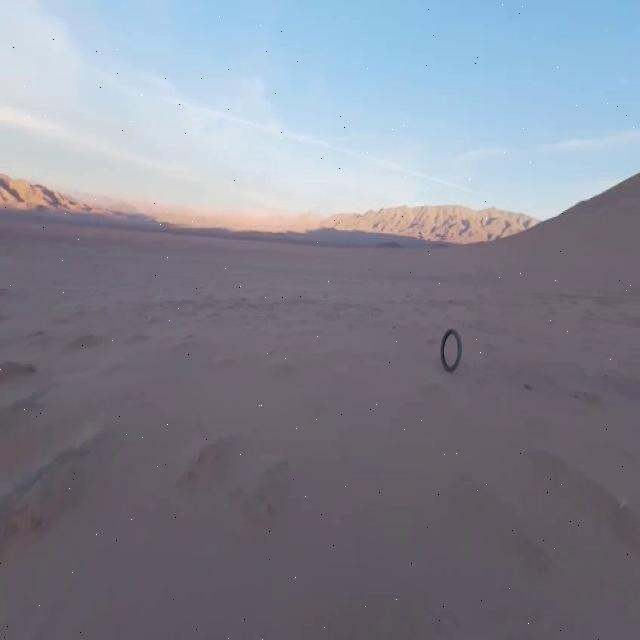Tire: (442, 329, 462, 371)
